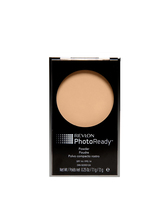other: (44, 50, 127, 181)
